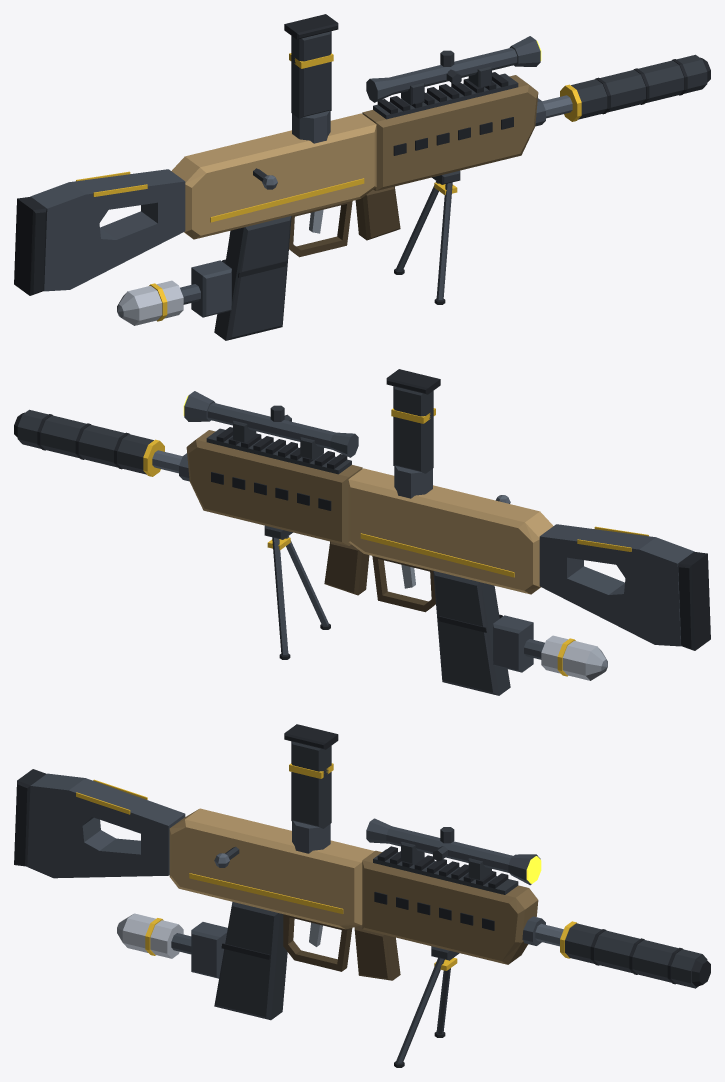
File: sniper_factory.glb
3 renders of one model, top to bottom at view 1: azimuth 30°, elevation 25°; view 2: azimuth 150°, elevation 25°; view 3: azimuth 330°, elevation 25°, orthographic.
Visible parts, largest first — view 1: sniper_factory; view 2: sniper_factory; view 3: sniper_factory.
Part boxes in pixels (x1=…): sniper_factory: x1=14, y1=14, x2=710, y2=340; sniper_factory: x1=14, y1=369, x2=710, y2=695; sniper_factory: x1=14, y1=724, x2=710, y2=1067.
Bounding box in the file's own units: 0.89 × 0.364 × 0.1151.
